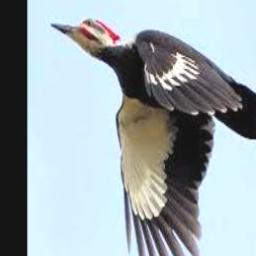Woodpecker: (50, 17, 256, 256)
